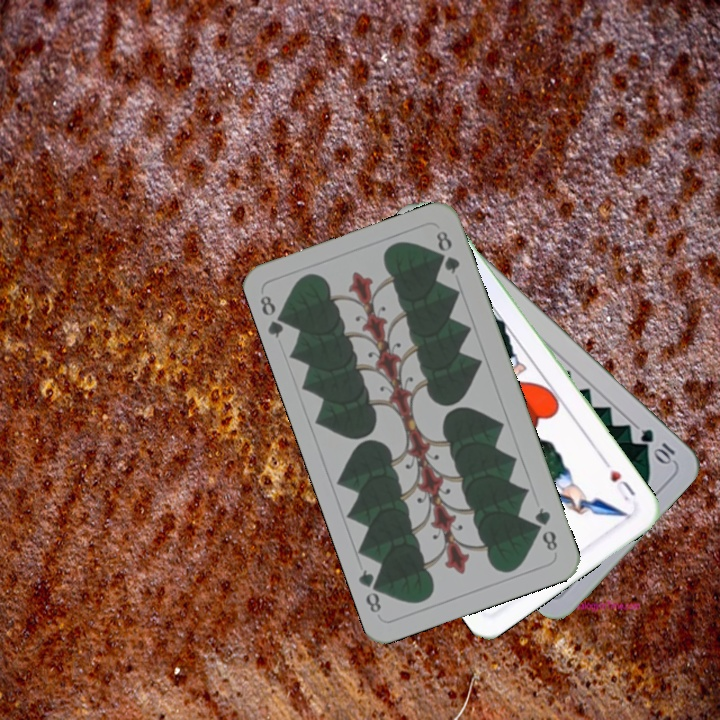G10: (636, 424, 678, 467)
G8: (255, 291, 292, 341), (530, 503, 560, 554)
HU: (605, 466, 638, 504)
